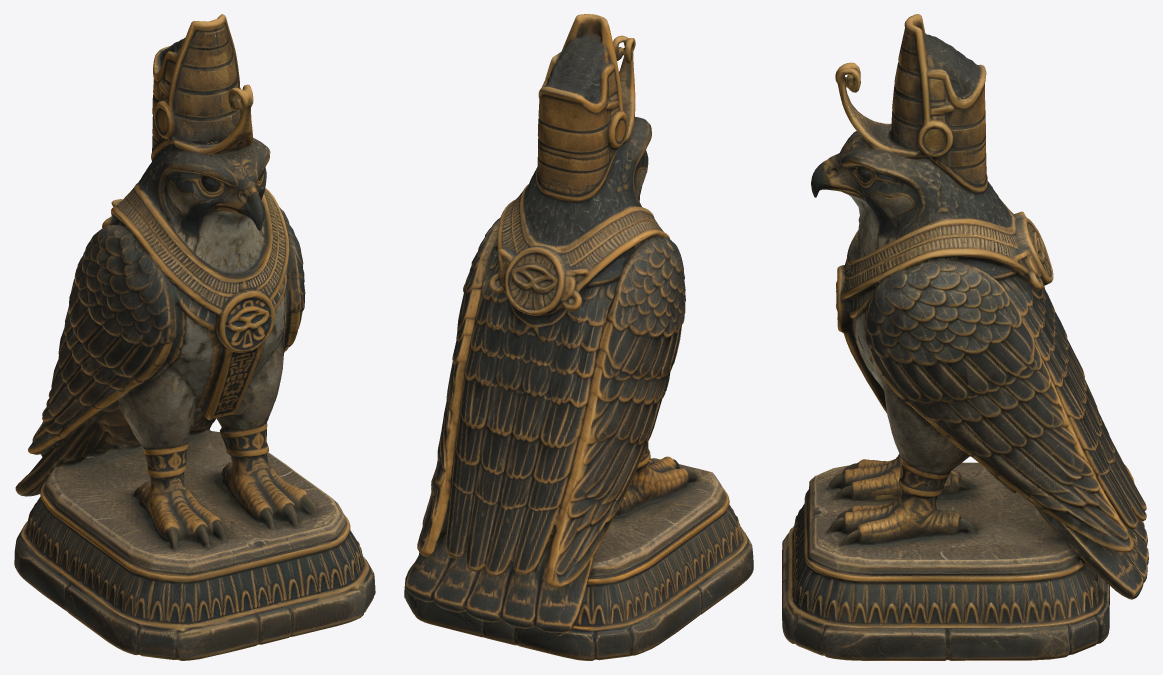
Rendered from WF_EgyptianTombV2_HorusFalcon.fbx.
3 views of the same model, side by side, from view 1: azimuth 30°, elevation 25°; view 2: azimuth 150°, elevation 25°; view 3: azimuth 270°, elevation 25° (orthographic). The views are drawn at different scales.
Visible parts, largest first — view 1: Mesh1.0; view 2: Mesh1.0; view 3: Mesh1.0.
Boxes of the visible parts, x1,y1,x2,y2 form: Mesh1.0: (14, 14, 375, 660); Mesh1.0: (404, 14, 753, 660); Mesh1.0: (782, 14, 1148, 660).
Bounding box in the file's own units: 89.22 × 191 × 110.
Materials: 1 (1 with a texture image).
